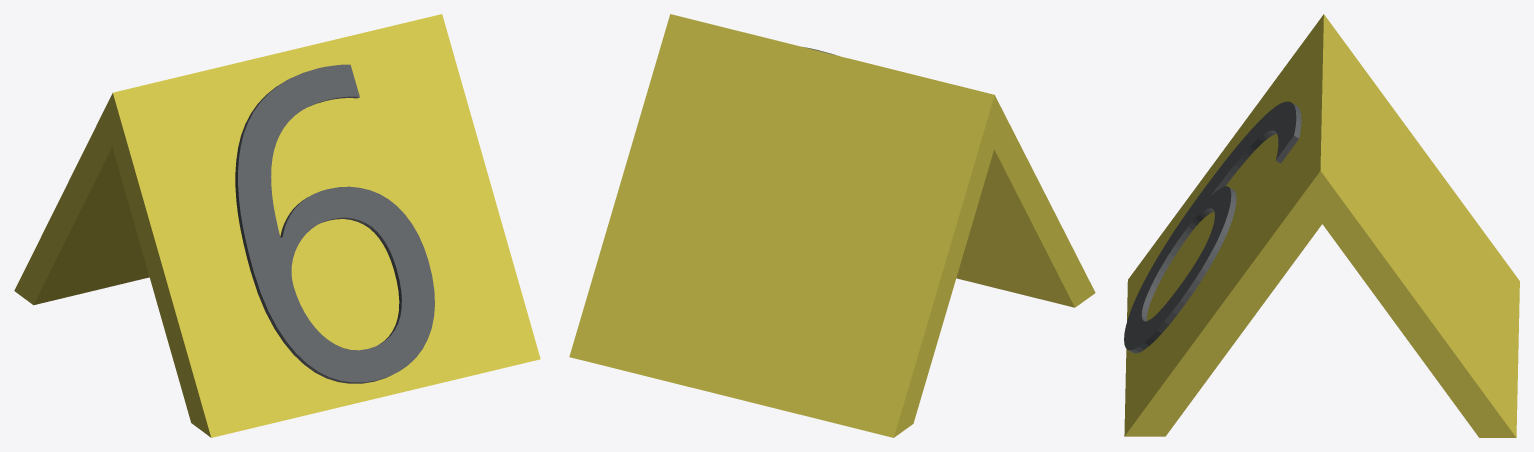
Rendered from bord6.gltf.
3 renders of one model, left to right at view 1: azimuth 30°, elevation 25°; view 2: azimuth 150°, elevation 25°; view 3: azimuth 270°, elevation 25°, orthographic.
Visible parts, largest first — view 1: Mesh_Mesh_head_geo.001_lambert2SG.001; view 2: Mesh_Mesh_head_geo.001_lambert2SG.001; view 3: Mesh_Mesh_head_geo.001_lambert2SG.001.
Boxes of the visible parts, left/top/right/bottom form: Mesh_Mesh_head_geo.001_lambert2SG.001: left=14, top=14, right=540, bottom=437; Mesh_Mesh_head_geo.001_lambert2SG.001: left=569, top=14, right=1095, bottom=437; Mesh_Mesh_head_geo.001_lambert2SG.001: left=1124, top=14, right=1519, bottom=437.
Bounding box in the file's own units: 19.09 × 15 × 20.2.
